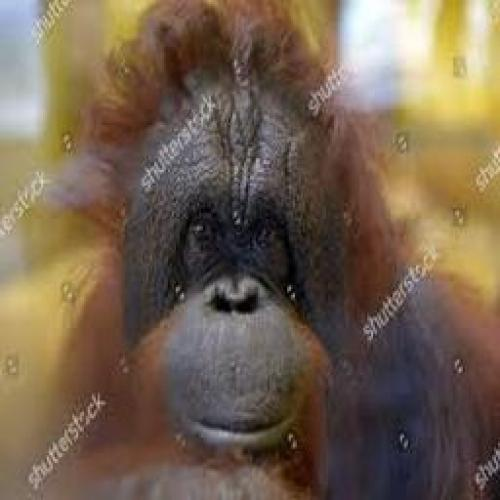orangutan-endangered: (45, 8, 489, 487)
